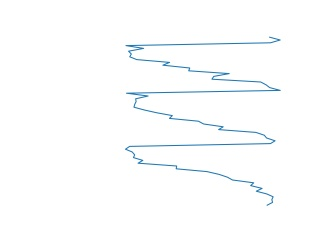distributaryMouthBar: (122, 36, 285, 209)
